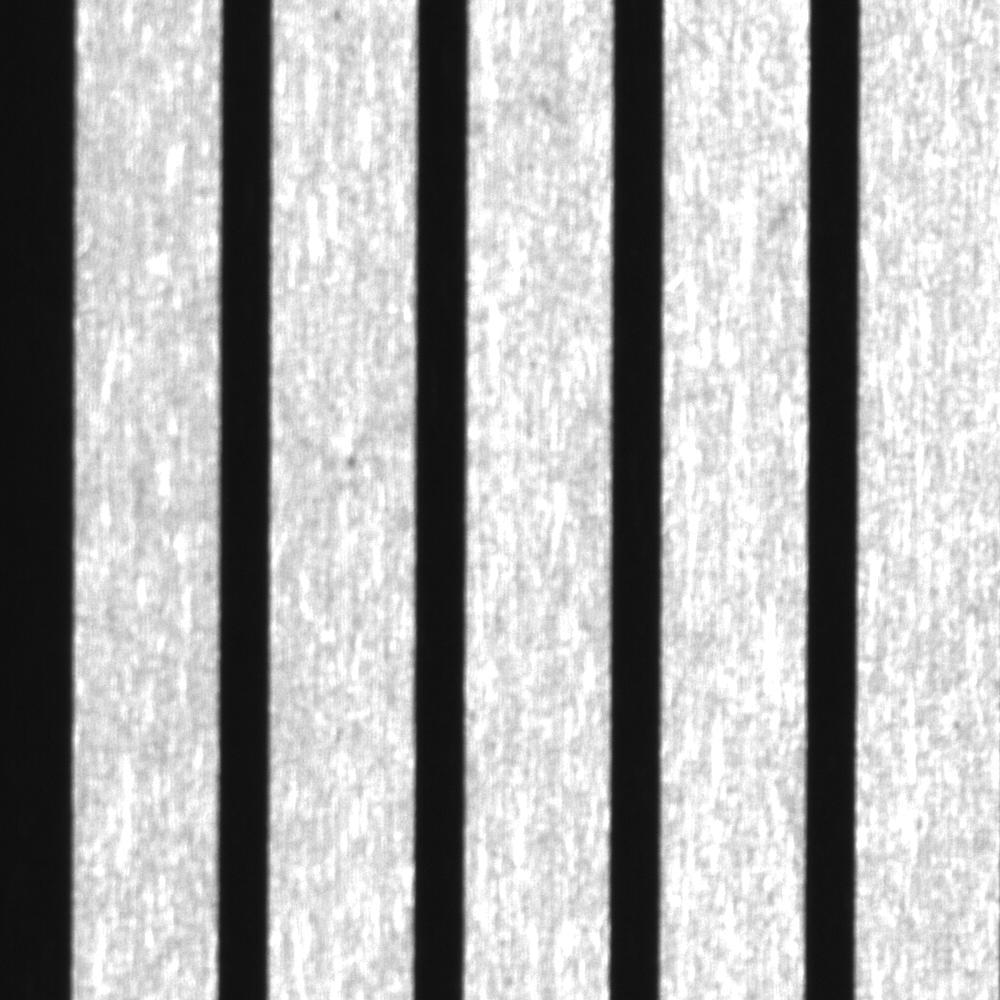Pinhole: (337, 440, 372, 486), (321, 1, 359, 33)
